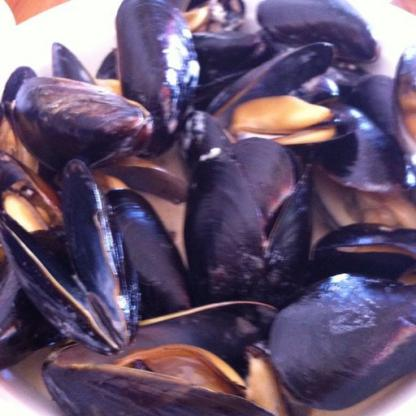mussel: (44, 298, 282, 415), (0, 165, 149, 350), (192, 149, 322, 306), (267, 279, 415, 408), (109, 0, 201, 149), (7, 76, 150, 168)
